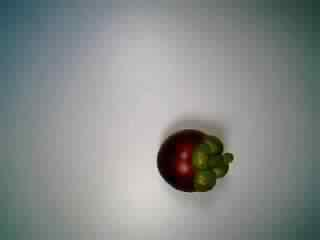mangosteen: (151, 123, 237, 197)
